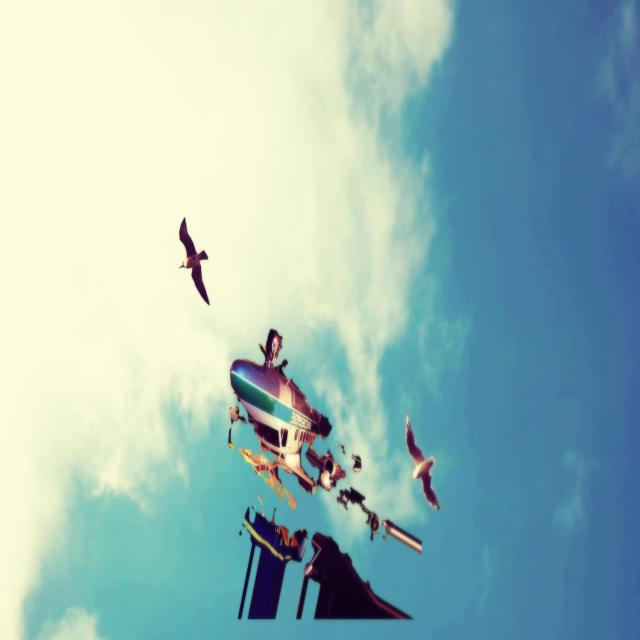airplane: (228, 327, 408, 620)
